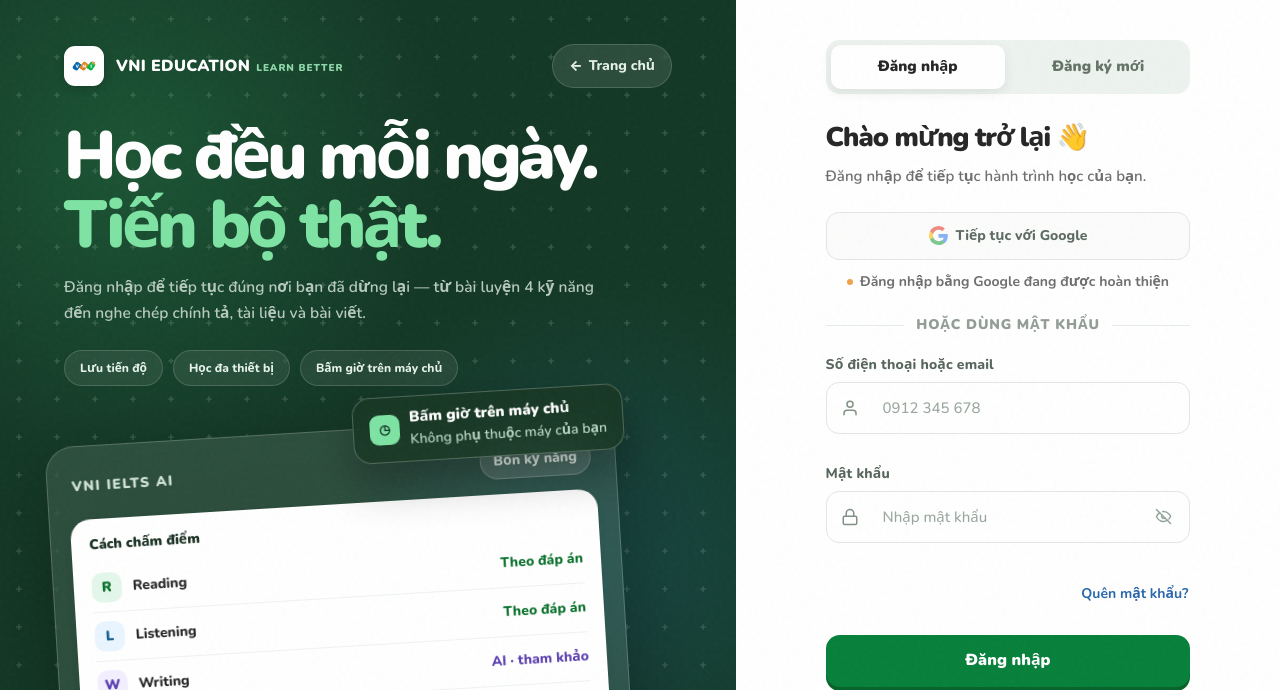
Test: answers an empty sign-in form itself instead of asking the server
Click the button "Đăng nhập".
click(1008, 660)  # box [826,634,1190,686]
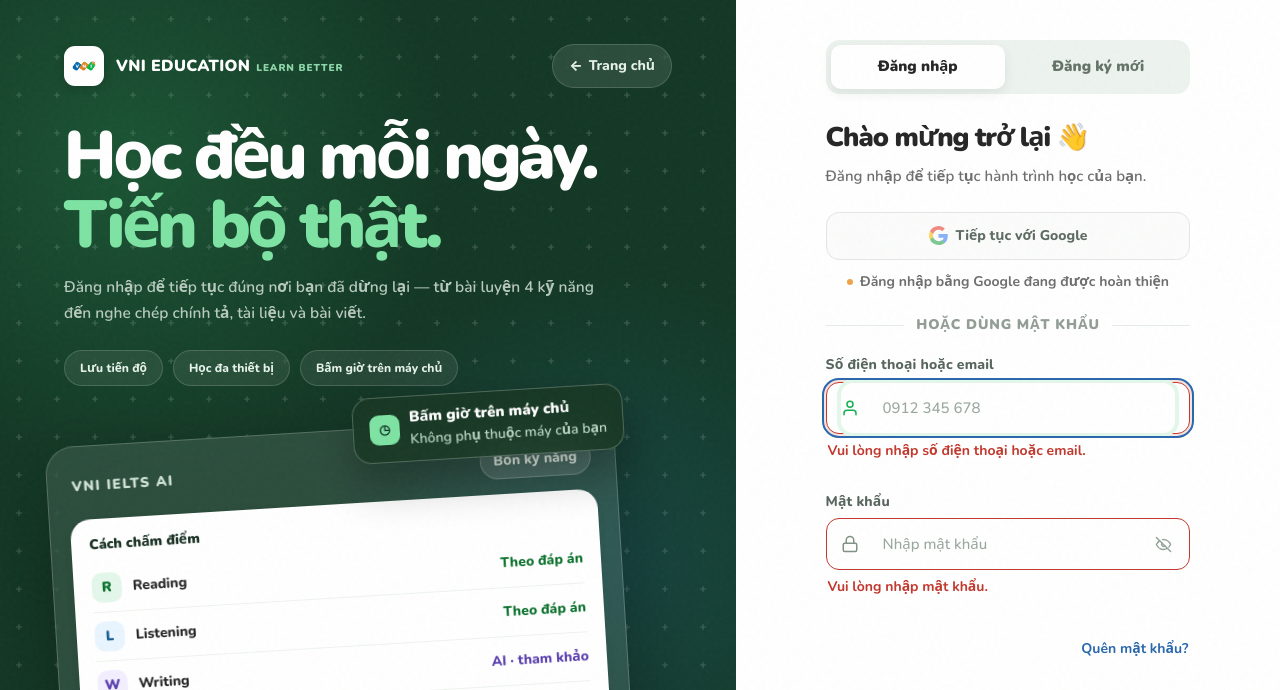
Result: the text "Vui lòng nhập số điện thoại hoặc email." is shown at [828,441,1086,460]
